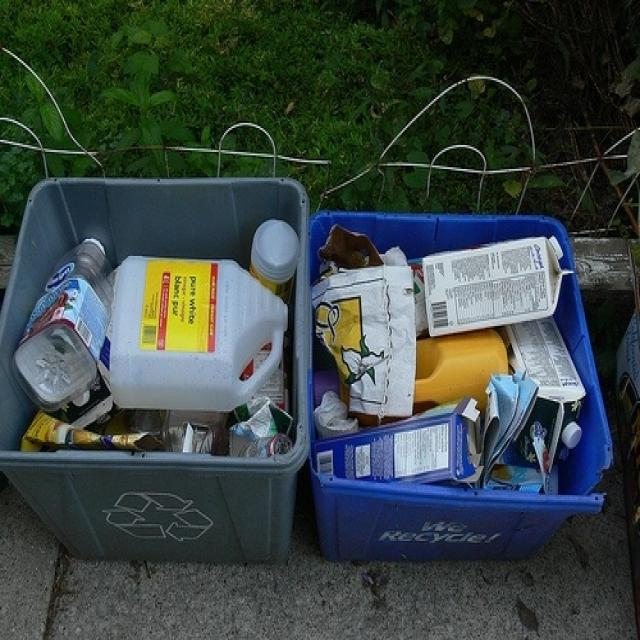Plastics: (10, 139, 626, 574)
